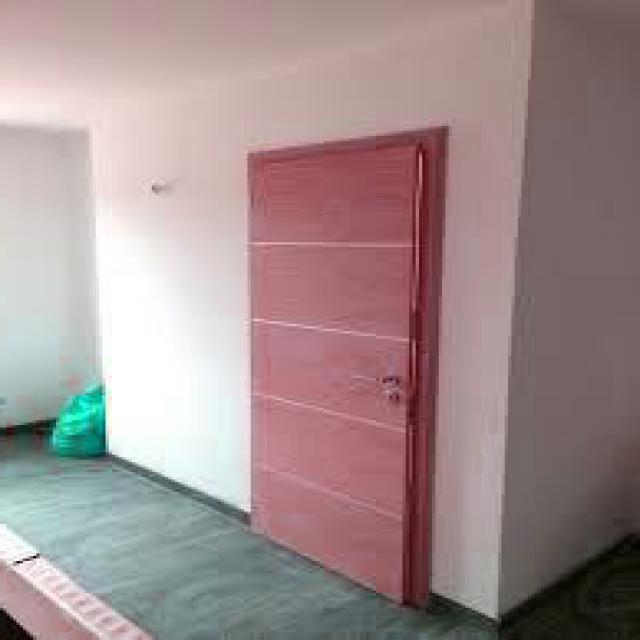door: (235, 105, 473, 619)
